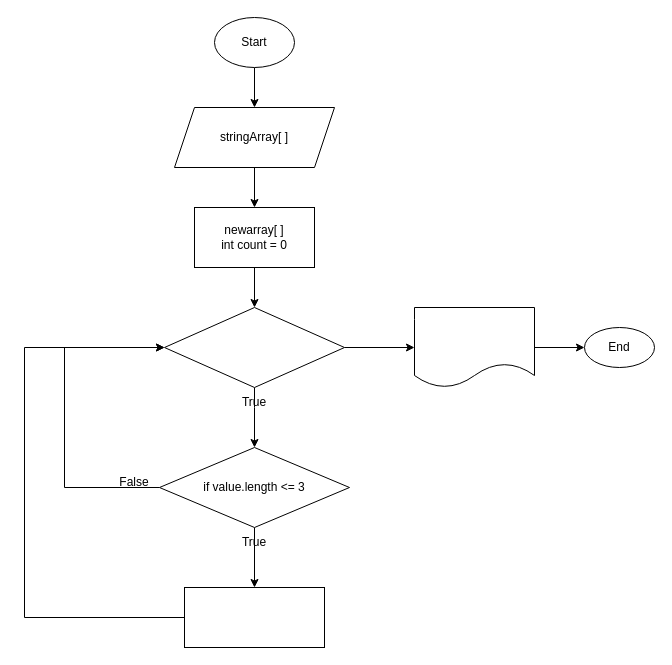
The diagram is 672 pixels wide and 665 high, and some of its shapes have lost their labels. Each missing label, with the centre of its shape:
Foreach string value in stringArray: (x=254, y=347)
newarray[count] = value count++: (x=254, y=617)
Print newarray 0 count: (x=474, y=347)
